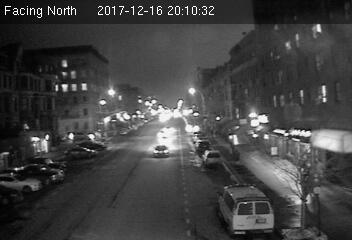car: (202, 149, 223, 168), (152, 144, 171, 158)
police: (215, 181, 277, 235)
